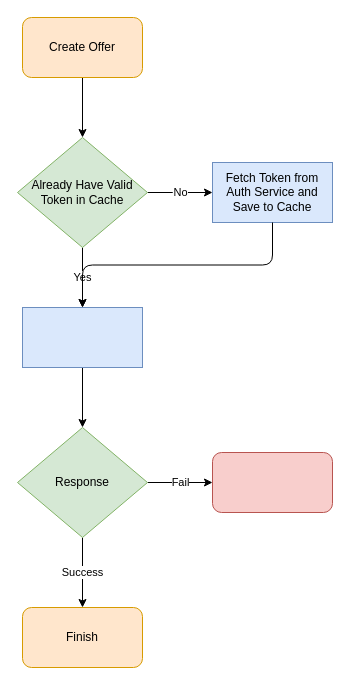
Image size: 350x685. Some labels were removed from this diagram. The shapes that lost their labels are listed below. From the top down, each one's box as (x1, y1, x2, y2) in pixels, then its label:
(22, 306, 142, 368): Call Create Endpoint
(212, 452, 332, 512): Handle Error
